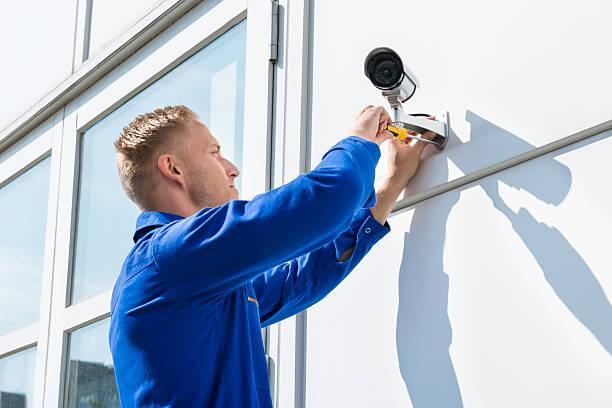camera: (329, 12, 443, 129)
